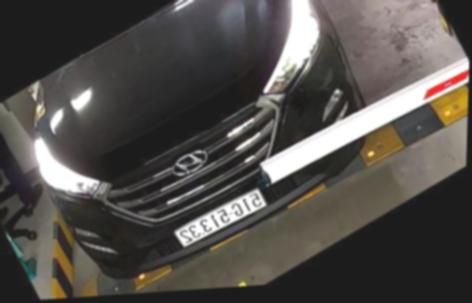License_Plate: (174, 185, 269, 255)
